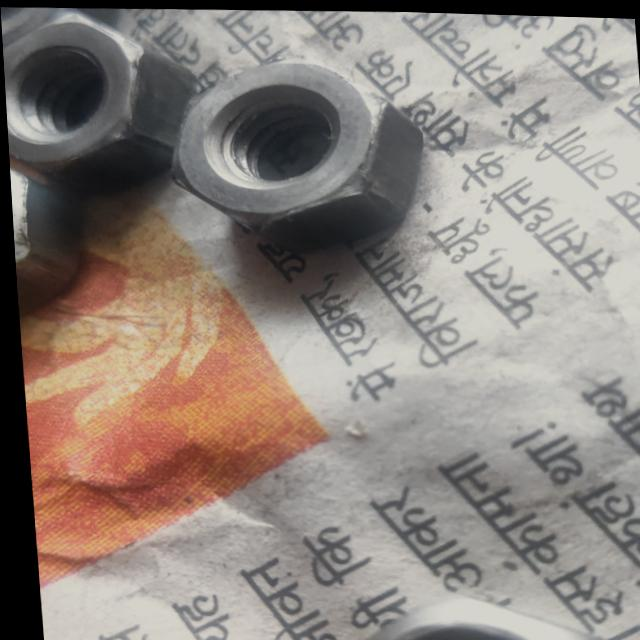disinfected nut: (171, 60, 420, 247), (2, 8, 193, 191), (8, 168, 76, 317)
